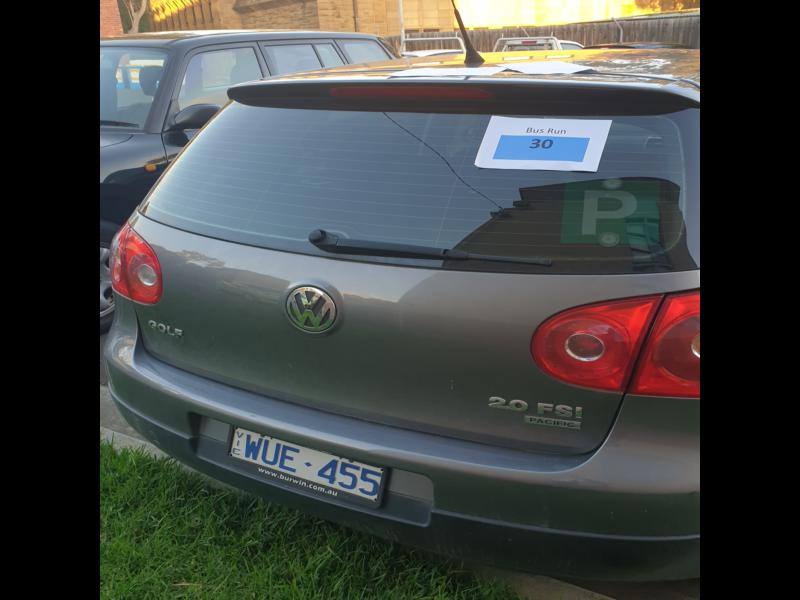BusRun: (490, 135, 591, 161)
PlateNo: (229, 424, 386, 508)
